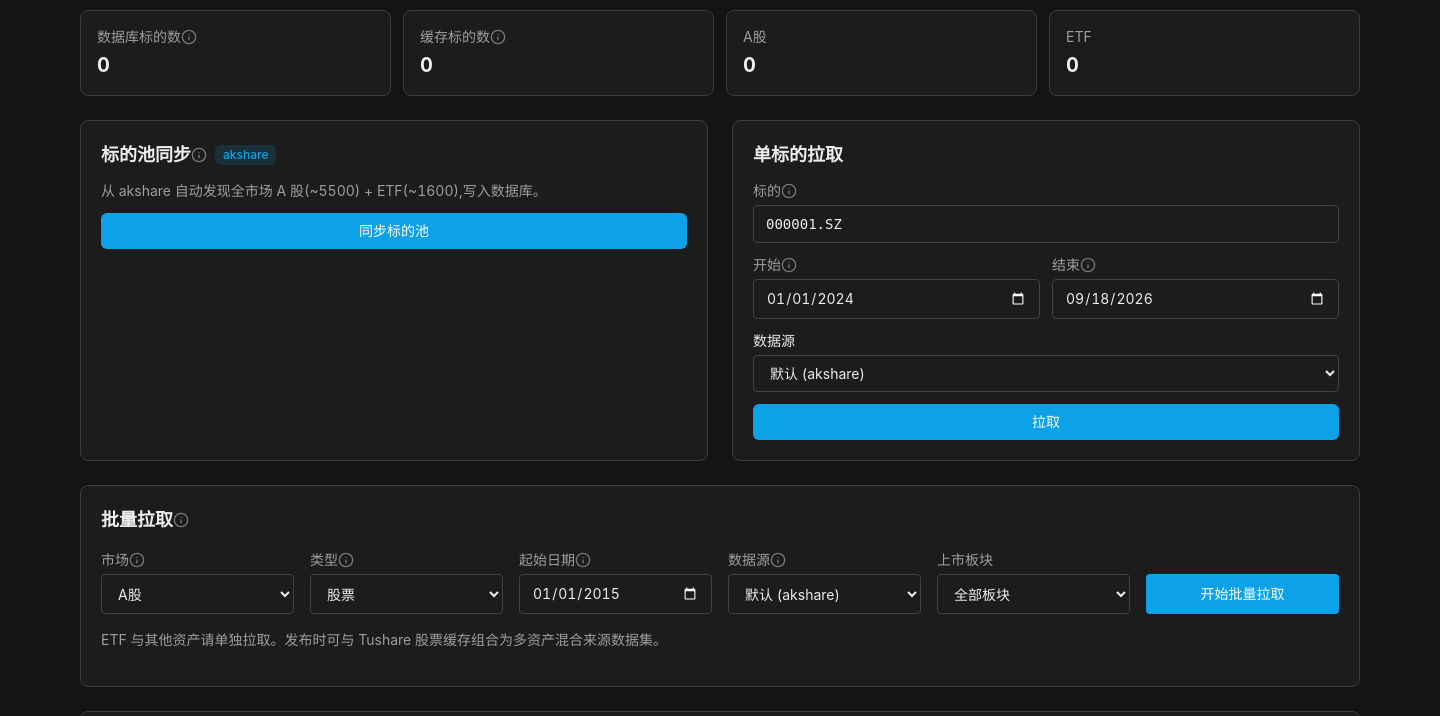
Test case: 目标页面 InfoHint 接入 › 数据页批量拉取提交后展示统一任务队列进度条
The width and height of the screenshot is (1440, 716).
Click the button "开始批量拉取" at {"x": 1242, "y": 594}, box top-left (1146, 574), bottom-right (1339, 614)
(page scrolled)
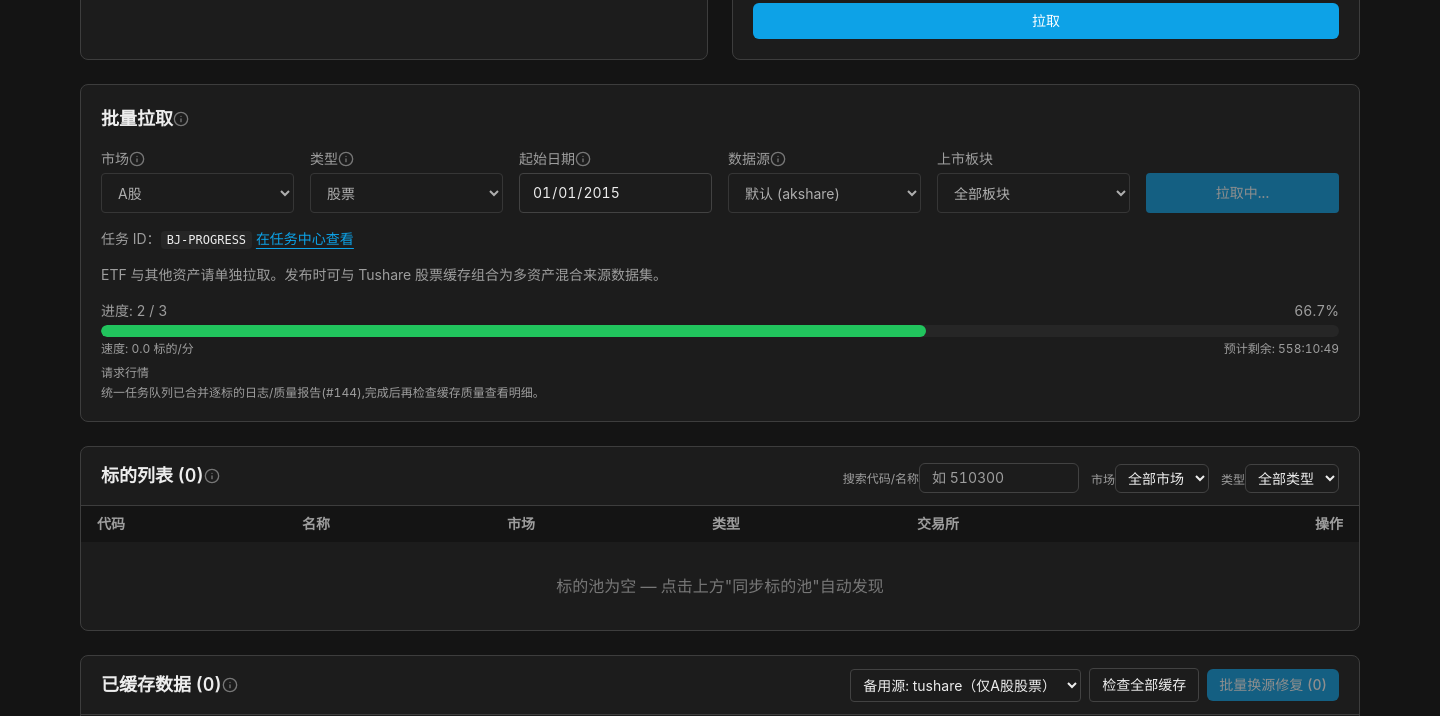
Check: the text "进度: 2 / 3" is shown, box top-left (101, 301), bottom-right (167, 321)
